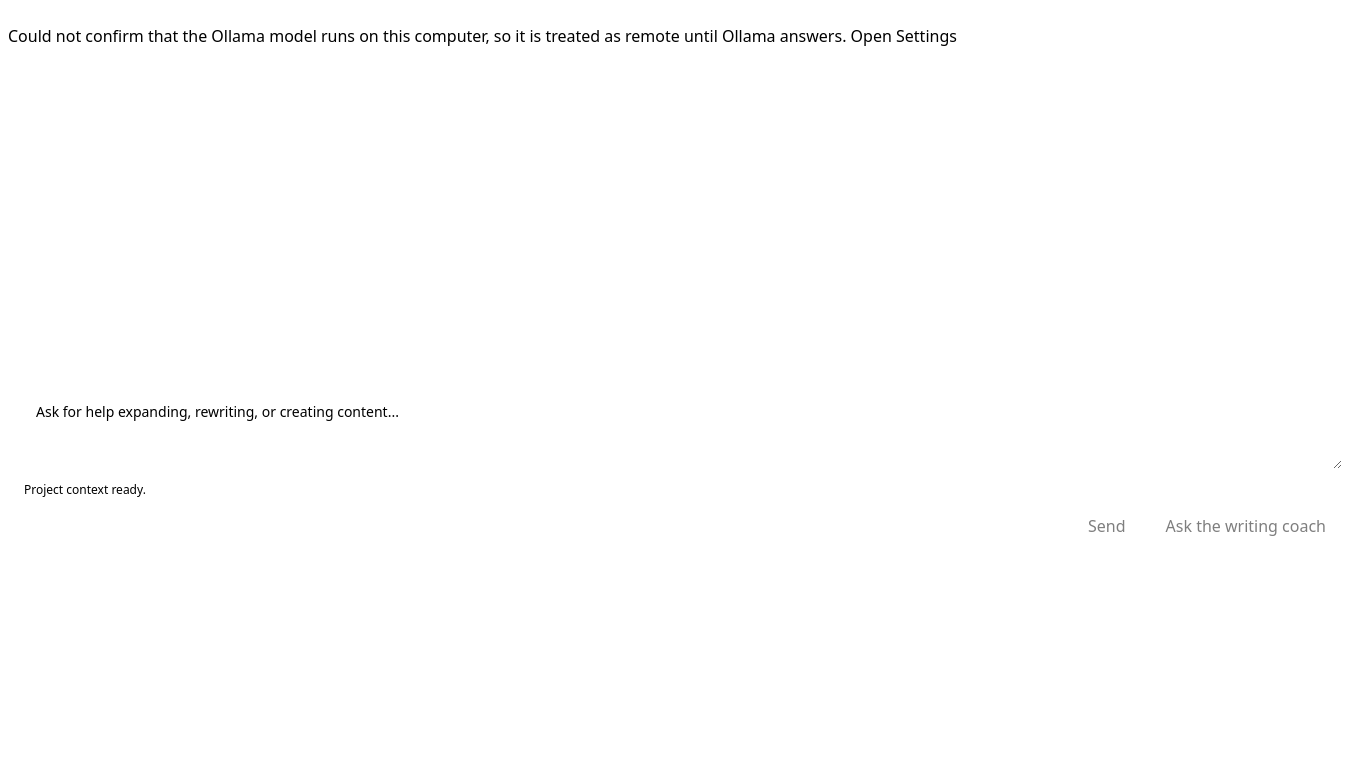
Test: AIAssistant factual lookup integration › never sends an unsupported factual question to the creative provider
Expected: the text "Project context ready." is shown, [24,481,146,498]
Type "Who stole the Emberglass Key?" into the text box at (683, 429), box [24,389,1342,469]
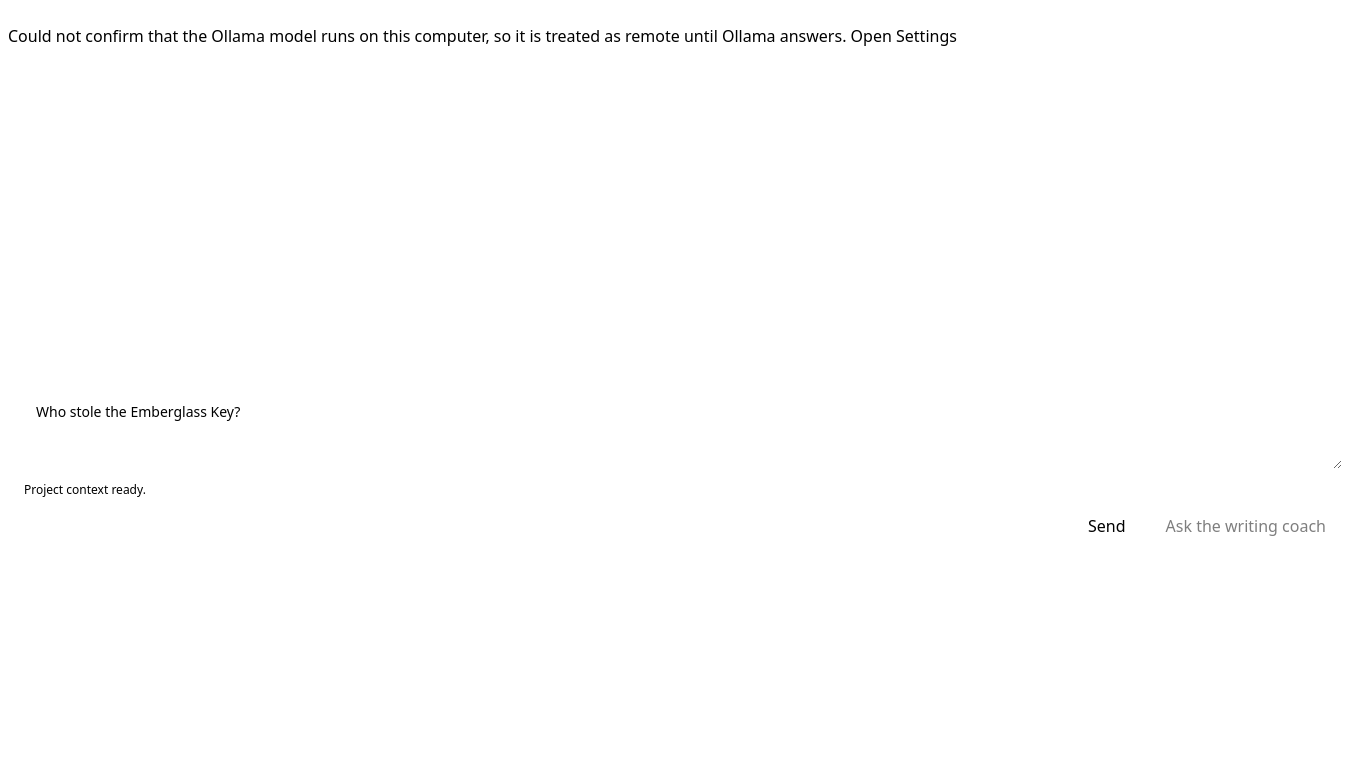
Click the button "Send" at (1107, 526), box [1072,507,1142,545]
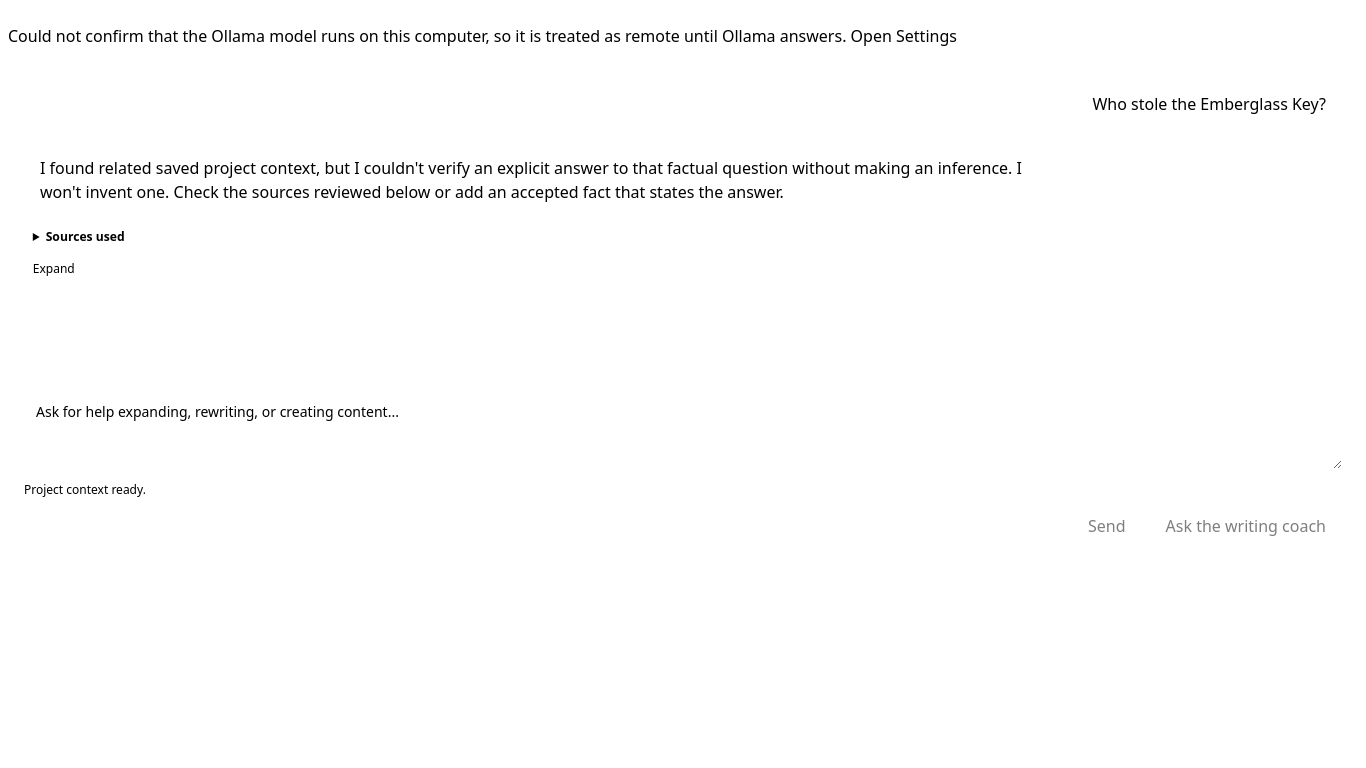
Result: the text "won't invent one" is shown at [40,157,1026,203]
